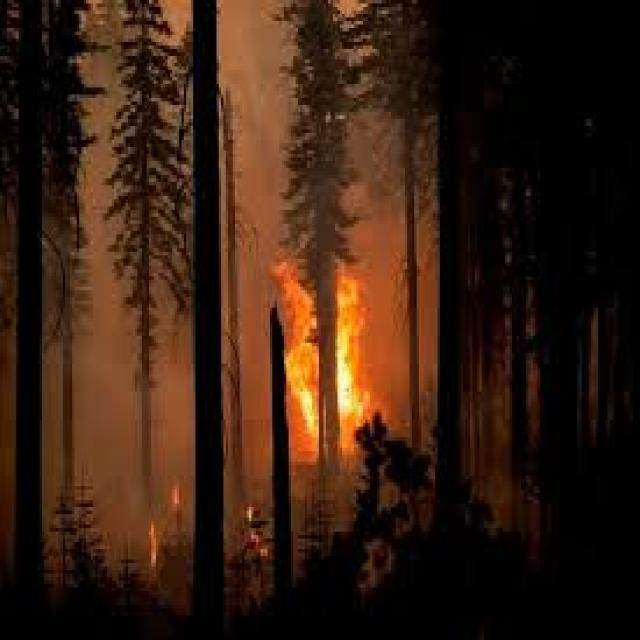Fire: (246, 176, 393, 486)
Smoke: (0, 0, 204, 478)
